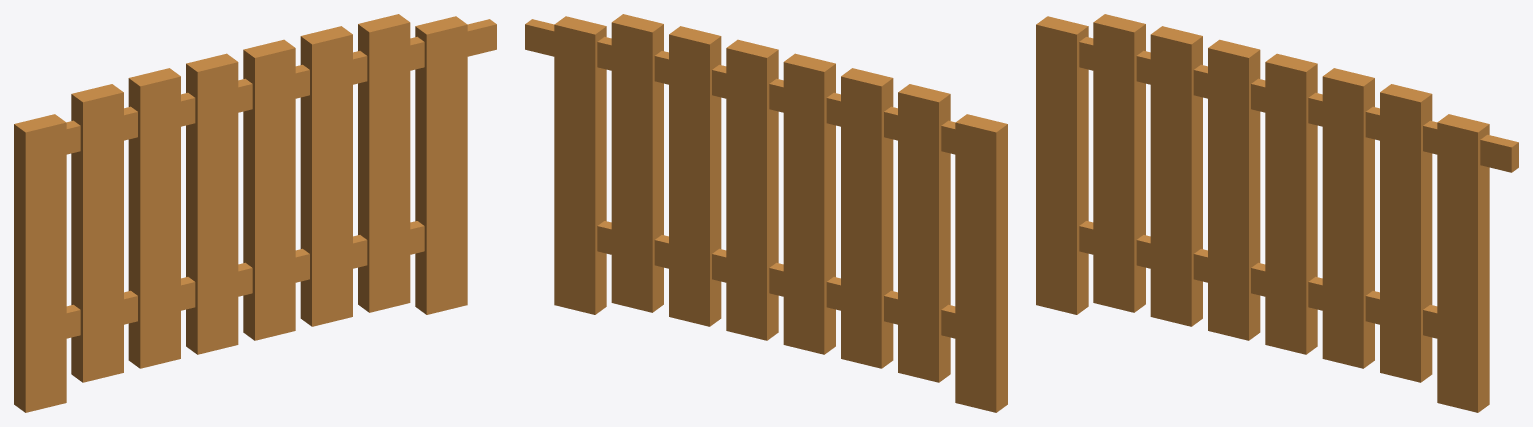
File: Fence_6.fbx
The picture shows the model from 3 angles, left to right: view 1: azimuth 30°, elevation 25°; view 2: azimuth 150°, elevation 25°; view 3: azimuth 330°, elevation 25°; orthographic projection.
Parts seen in each view (by area): view 1: Fence_7; view 2: Fence_7; view 3: Fence_7.
Part boxes in pixels (box(x1,y1,x2,y2)): Fence_7: box(14, 14, 496, 412); Fence_7: box(525, 14, 1007, 412); Fence_7: box(1036, 14, 1518, 412).
Size of the model in its own units: 119 by 72.06 by 5.04.
